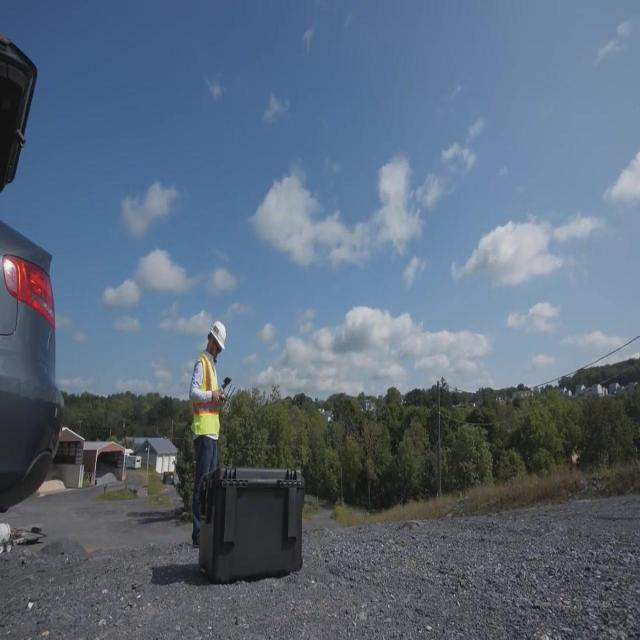Reflective-Jacket: (182, 350, 231, 455)
Safety-Helmet: (203, 311, 233, 358)
